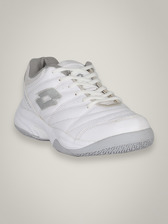shoes: (11, 57, 157, 158)
